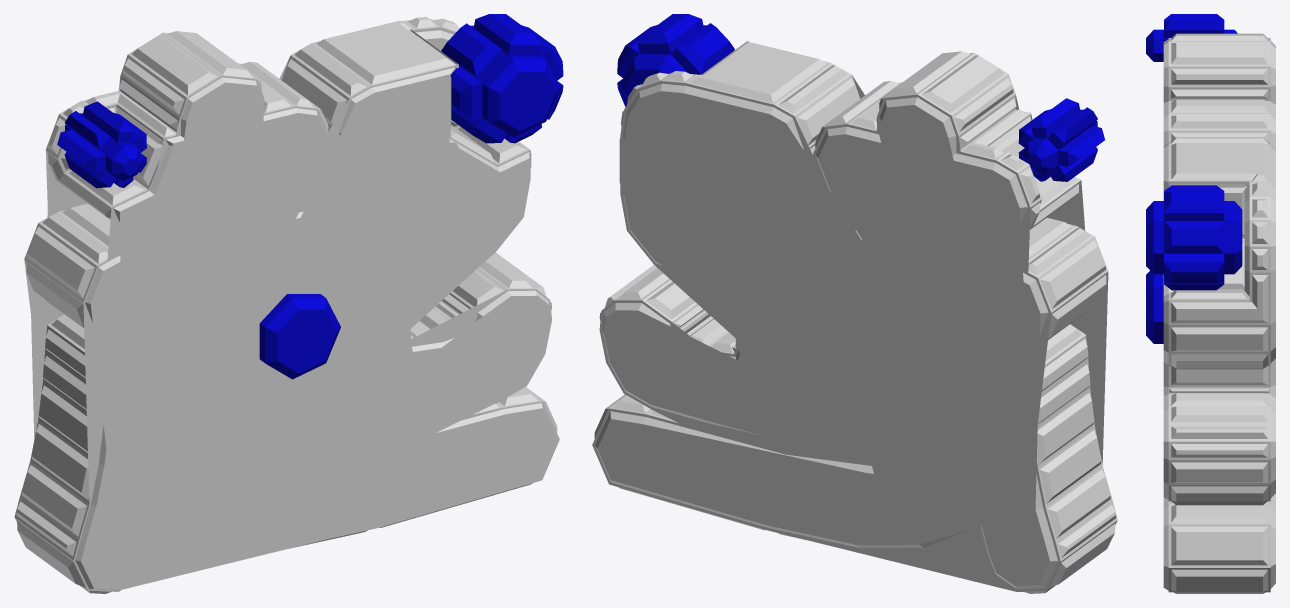
Rendered from Ch_China_起_01.fbx.
3 renders of one model, left to right at view 1: azimuth 30°, elevation 25°; view 2: azimuth 150°, elevation 25°; view 3: azimuth 270°, elevation 25°, orthographic. The views are drawn at different scales.
Visible parts, largest first — view 1: sphere1; view 2: sphere1; view 3: sphere1.
Part boxes in pixels (box(x1,y1,x2,y2)): sphere1: box(14, 14, 563, 593); sphere1: box(592, 14, 1117, 593); sphere1: box(1146, 14, 1275, 593).
Size of the model in its own units: 0.9619 by 0.9275 by 0.2541.
